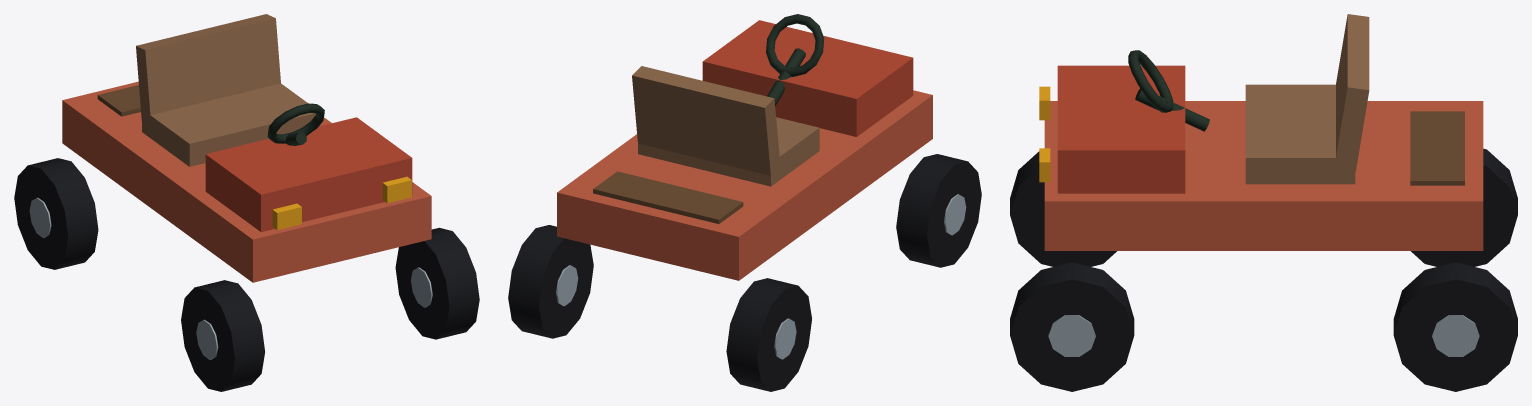
The model's file is buggy.glb.
The picture shows the model from 3 angles, left to right: view 1: azimuth 30°, elevation 25°; view 2: azimuth 150°, elevation 25°; view 3: azimuth 270°, elevation 25°; orthographic projection. The views are drawn at different scales.
Visible parts, largest first — view 1: chassis, seat, hood, wheel_rr, wheel_fr, wheel_fl, buggy, steering; view 2: chassis, seat, hood, wheel_fr, wheel_rr, wheel_rl, buggy, steering; view 3: chassis, hood, seat, wheel_fl, wheel_rl, buggy, wheel_rr, wheel_fr, steering.
Boxes of the visible parts, <box> form: chassis: <box>62,81,431,282</box>; seat: <box>136,14,320,166</box>; hood: <box>205,117,412,231</box>; wheel_rr: <box>14,158,98,269</box>; wheel_fr: <box>181,280,264,391</box>; wheel_fl: <box>395,227,479,339</box>; buggy: <box>97,85,411,230</box>; steering: <box>267,103,324,145</box>; chassis: <box>557,90,932,280</box>; seat: <box>632,66,819,186</box>; hood: <box>702,20,913,136</box>; wheel_fr: <box>896,154,981,267</box>; wheel_rr: <box>726,278,811,391</box>; wheel_rl: <box>508,225,593,338</box>; buggy: <box>593,171,743,223</box>; steering: <box>766,14,824,105</box>; chassis: <box>1044,101,1483,250</box>; hood: <box>1057,65,1185,193</box>; seat: <box>1245,14,1369,184</box>; wheel_fl: <box>1010,262,1134,391</box>; wheel_rl: <box>1393,262,1517,391</box>; buggy: <box>1039,86,1464,185</box>; wheel_rr: <box>1411,148,1517,266</box>; wheel_fr: <box>1010,151,1116,266</box>; steering: <box>1128,50,1209,131</box>.
Bounding box in the file's own units: 1.8 × 1.65 × 2.78.
